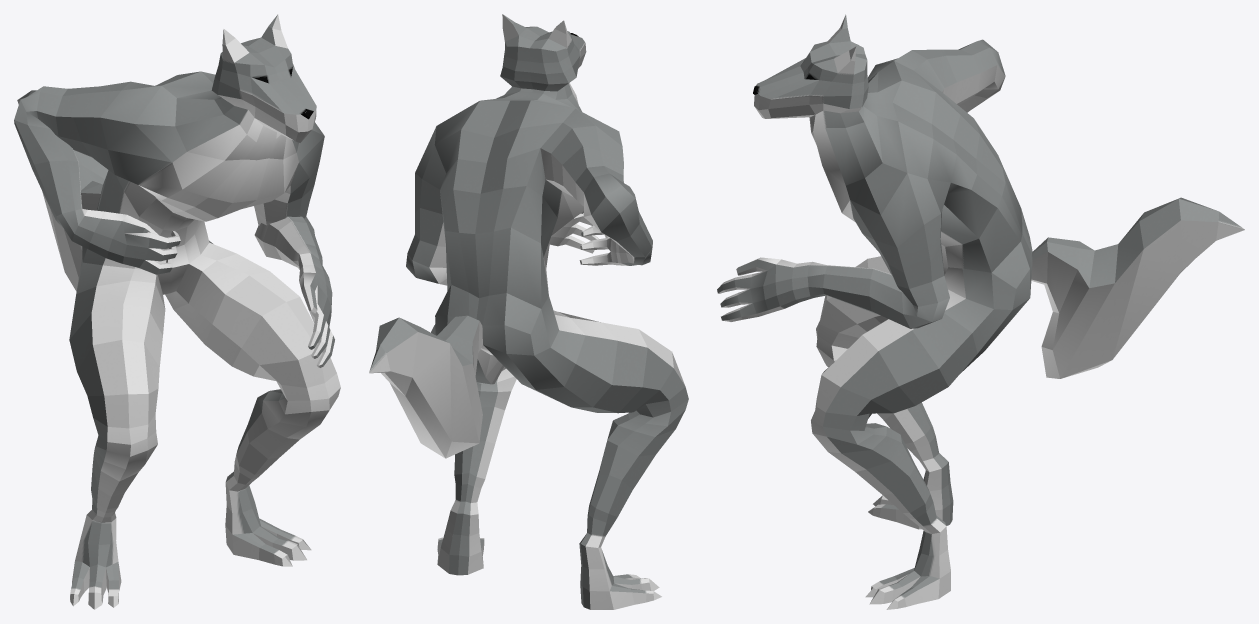
Rendered from WolfIdle_(54).obj.
3 renders of one model, left to right at view 1: azimuth 30°, elevation 25°; view 2: azimuth 150°, elevation 25°; view 3: azimuth 270°, elevation 25°, orthographic. The views are drawn at different scales.
Parts seen in each view (by area): view 1: Box001; view 2: Box001; view 3: Box001.
Boxes of the visible parts, box(x1,y1,x2,y2) form: Box001: box(14, 14, 340, 609); Box001: box(369, 14, 688, 609); Box001: box(717, 14, 1244, 609).
Size of the model in its own units: 65.07 by 132 by 115.
